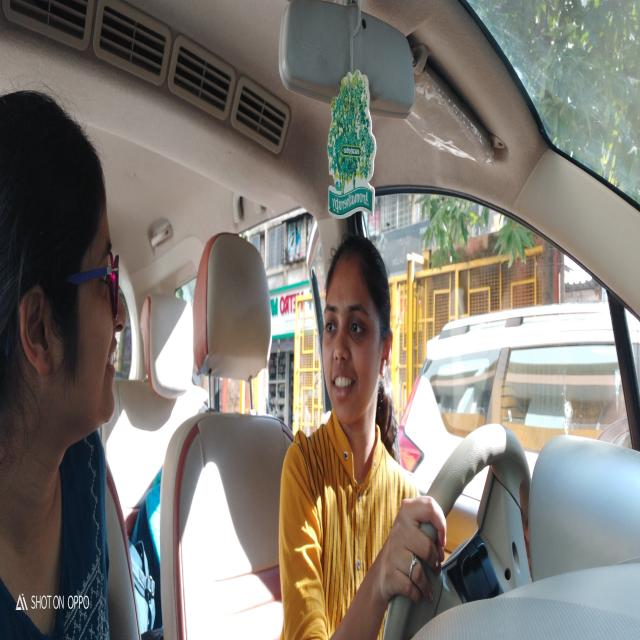LeftRight: (323, 227, 395, 421)
person: (3, 96, 128, 445)
talking: (102, 334, 121, 380), (332, 372, 358, 398)
